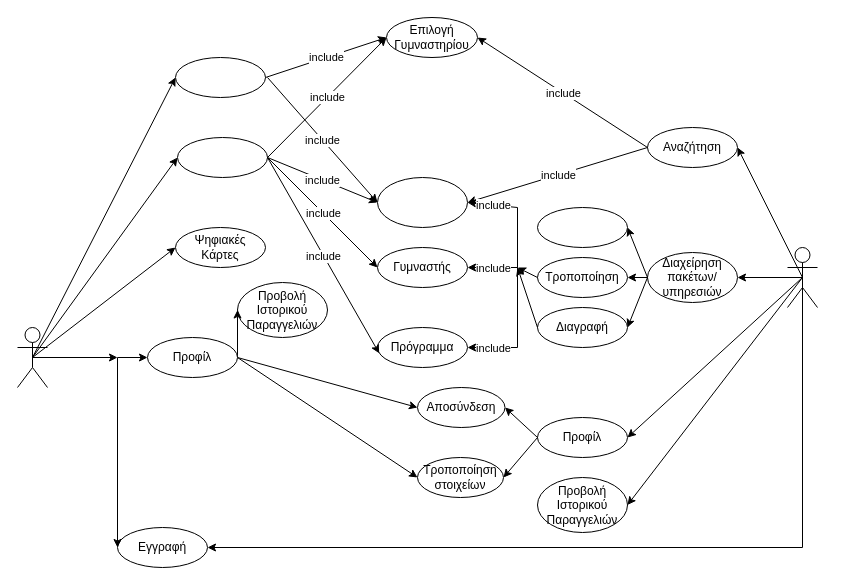
Image size: 860x585. Some labels were removed from this diagram. The shapes that lost their labels are listed below. From the top down, each one's centre as x and y in pixels, then its label:
At point 220,77: "Αγορά συνδρομής".
At point 222,157: "Αγαπημένα".
At point 422,202: "Πακέτο συνδρομής".
At point 582,227: "Προσθήκη".
At point 802,277: "Company User".
At point 32,357: "User".
